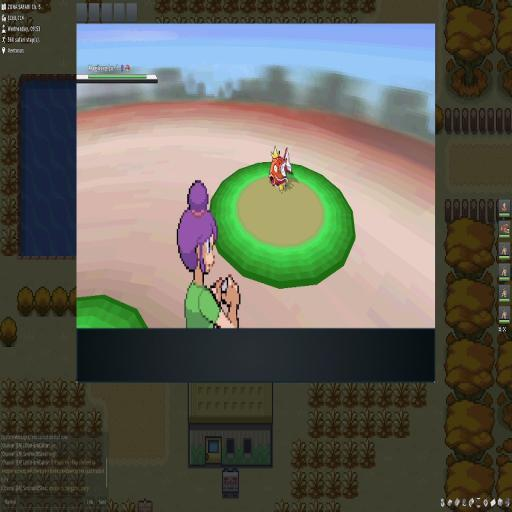MAGIKARP: (269, 144, 294, 194)
